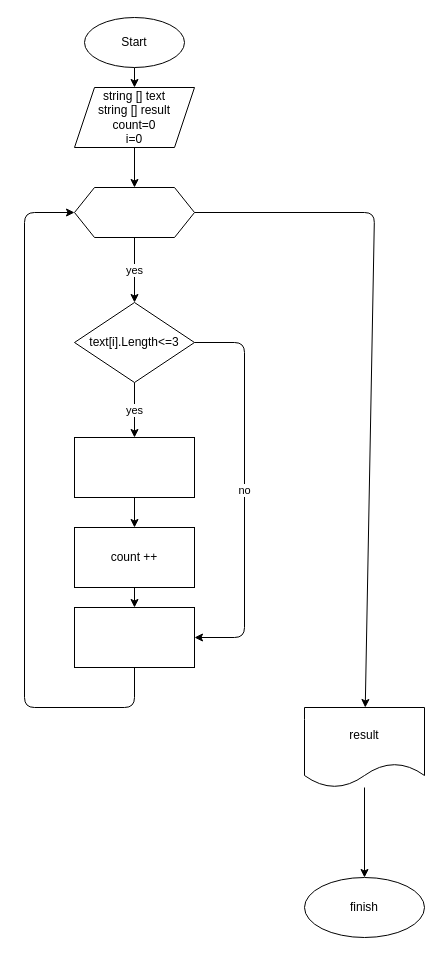
This 442x955 diagram has some shape labels left out. The box of each missing label's shape, as (x1, y1, x2, y2) in pixels:
i++: (74, 606, 194, 668)
i<text.Length: (74, 186, 194, 238)
resut[count] = text[i]: (74, 436, 194, 498)
